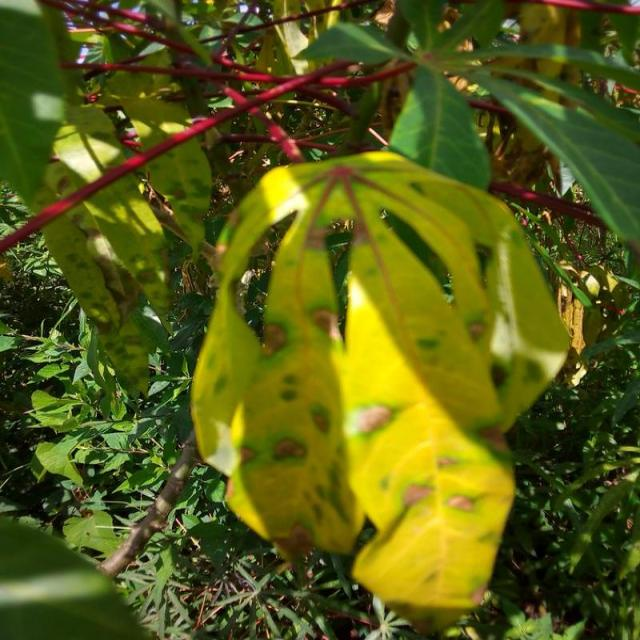cassava leaf: (190, 148, 571, 630)
